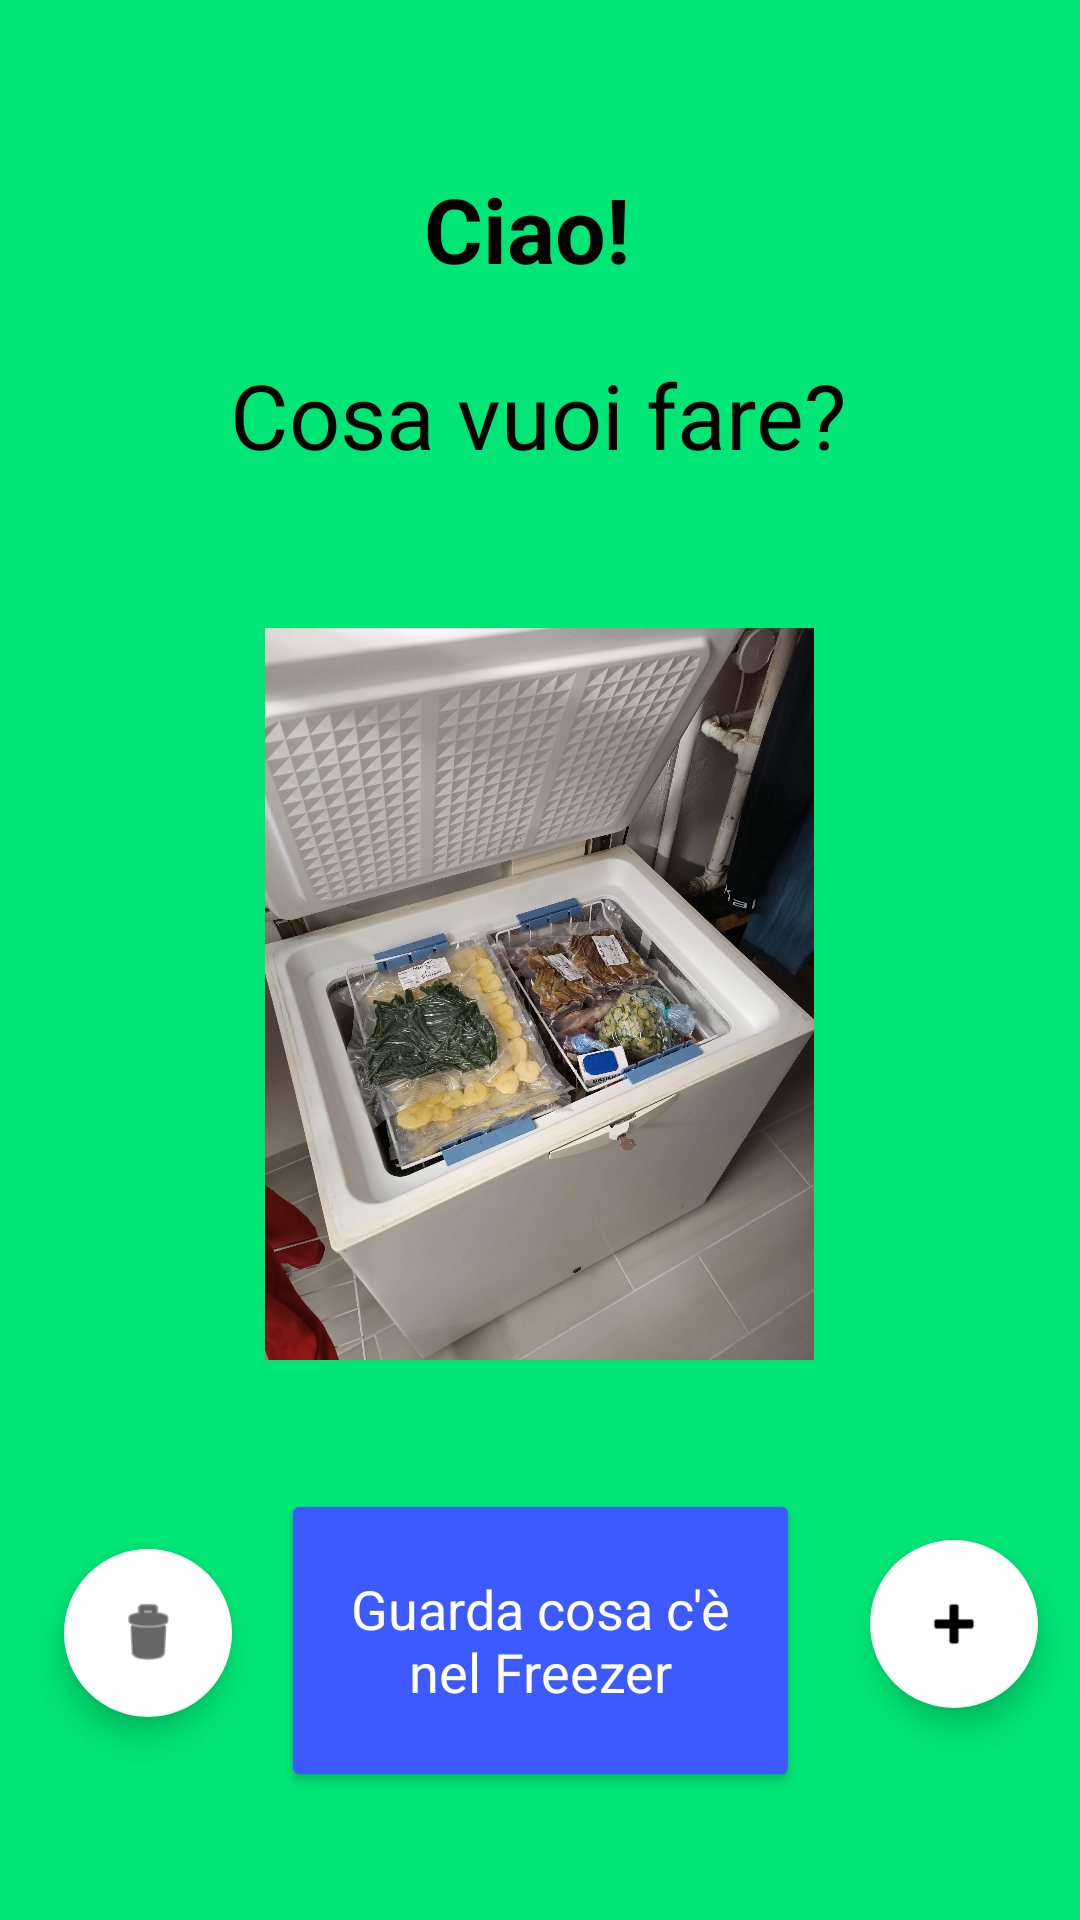

Locate icon controls on the screen. Image size 1080px x 1920px, boxes as (x1, y1, x2, y2).
add: (870, 1540, 1038, 1708)
delete: (64, 1549, 232, 1717)
